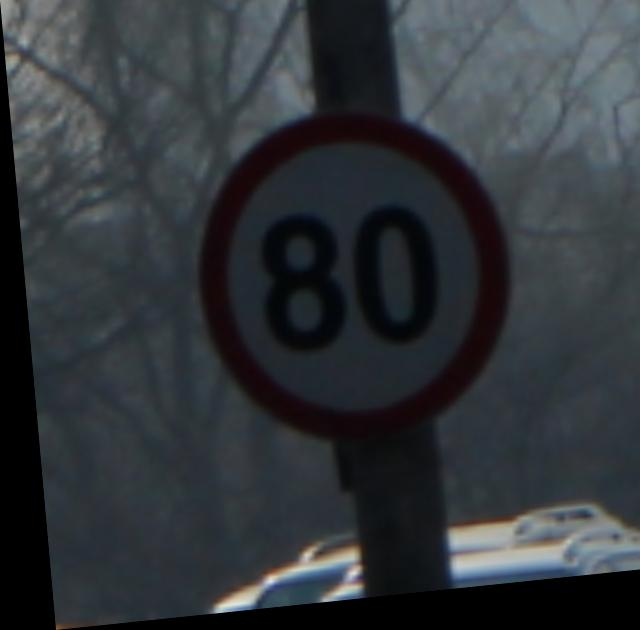limit80: (182, 104, 529, 450)
